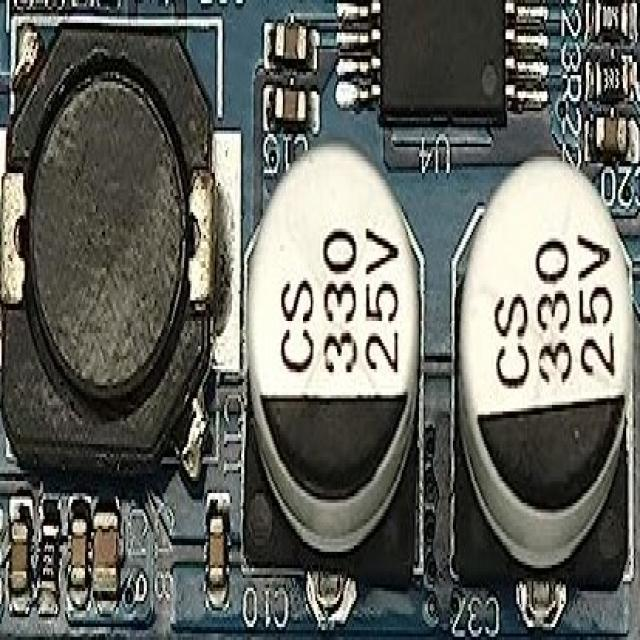IC: (340, 0, 548, 125)
capacitor 1V5: (465, 158, 633, 588), (251, 140, 408, 572), (200, 511, 230, 602), (92, 505, 118, 597), (68, 510, 91, 595), (273, 90, 315, 136), (271, 16, 309, 65), (590, 113, 632, 150), (10, 519, 29, 597)
inductor F1: (0, 30, 222, 484)
resistor IR1: (594, 56, 633, 101), (40, 519, 59, 595), (595, 0, 632, 36)
